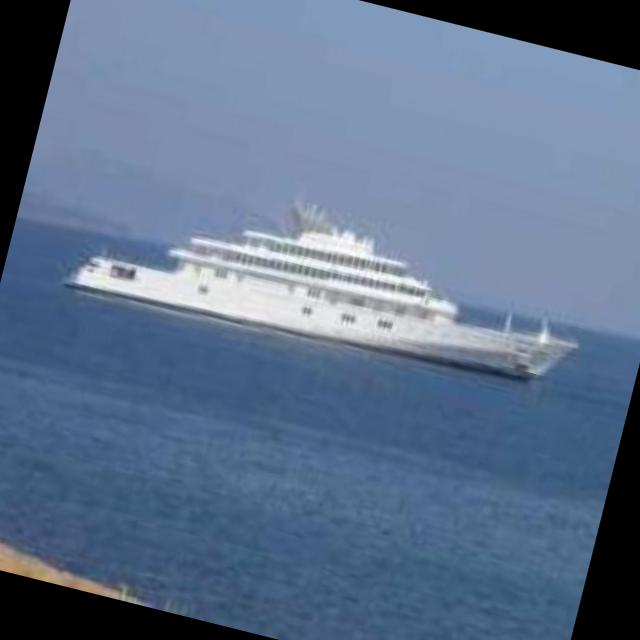boat: (32, 157, 612, 415)
